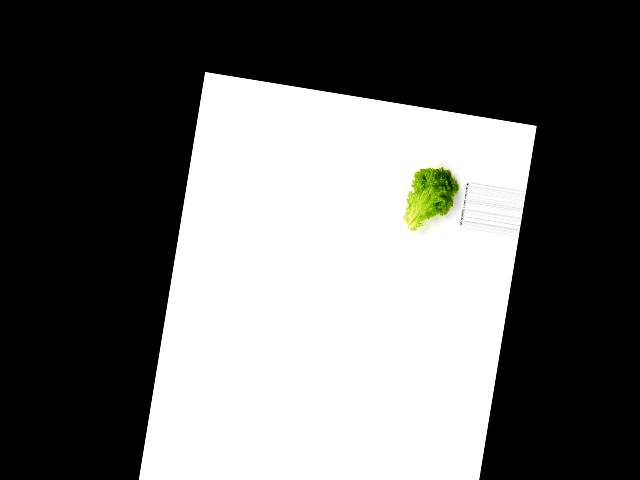lettuce: (399, 159, 461, 236)
